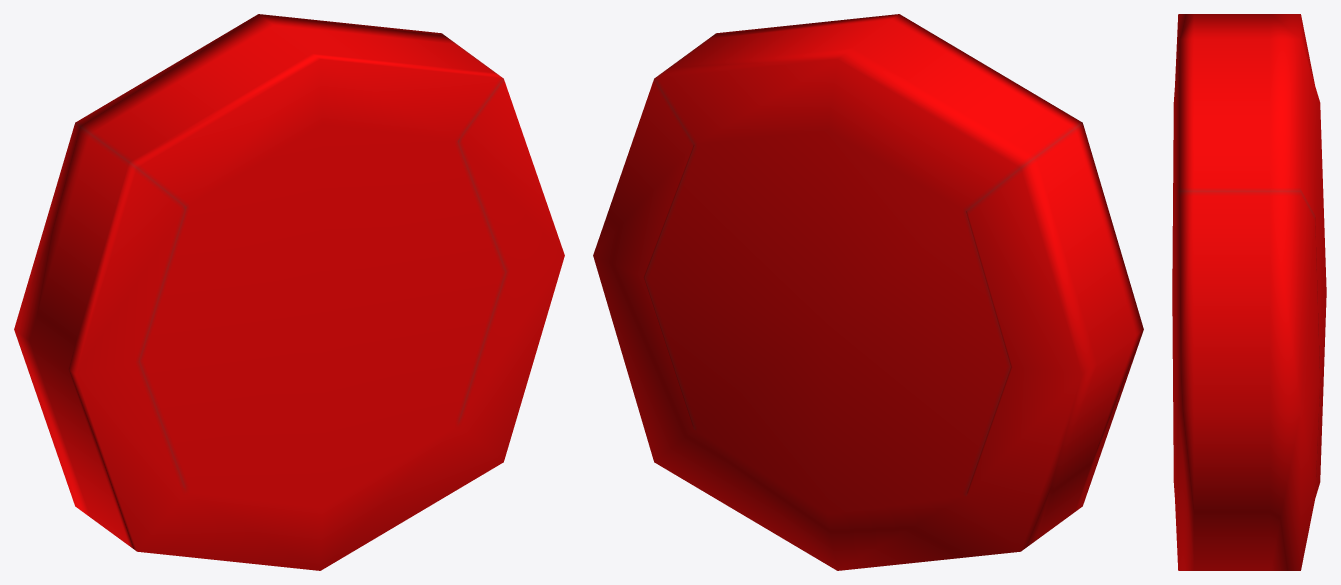
The model's file is sensor2.obj.
The picture shows the model from 3 angles, left to right: view 1: azimuth 30°, elevation 25°; view 2: azimuth 150°, elevation 25°; view 3: azimuth 270°, elevation 25°; orthographic projection.
Parts seen in each view (by area): view 1: pCube1; view 2: pCube1; view 3: pCube1.
Boxes of the visible parts, left/top/right/bottom form: pCube1: left=14, top=14, right=564, bottom=570; pCube1: left=593, top=14, right=1143, bottom=570; pCube1: left=1172, top=14, right=1326, bottom=570.
Bounding box in the file's own units: 0.2314 × 0.2314 × 0.0639.
Materials: 1 (1 with a texture image).
